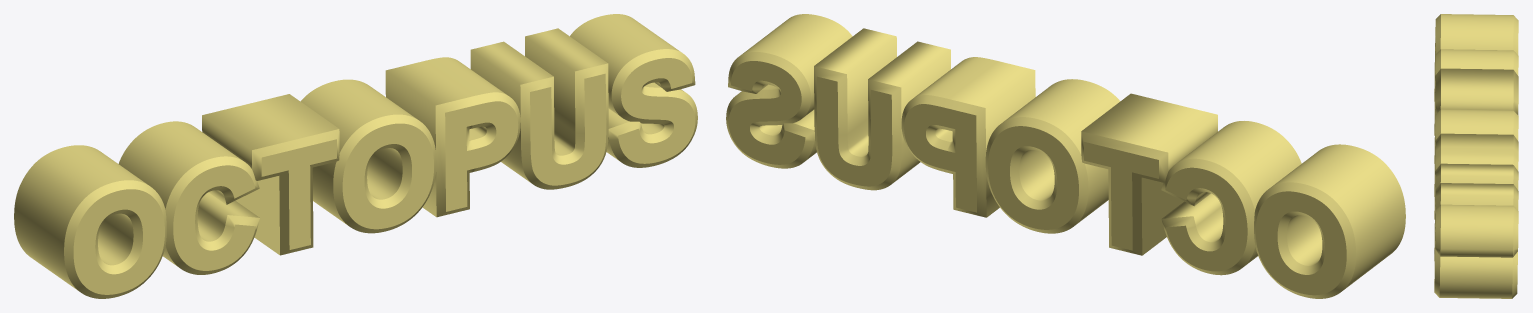
The model's file is OCTOPUS.fbx.
3 views of the same model, side by side, from view 1: azimuth 30°, elevation 25°; view 2: azimuth 150°, elevation 25°; view 3: azimuth 270°, elevation 25° (orthographic). The views are drawn at different scales.
Visible parts, largest first — view 1: Text; view 2: Text; view 3: Text.
Boxes of the visible parts, bbox=[...] form: Text: bbox=[14, 14, 697, 298]; Text: bbox=[726, 14, 1405, 298]; Text: bbox=[1434, 14, 1518, 298].
Size of the model in its own units: 3.47 by 0.6072 by 0.5489.
